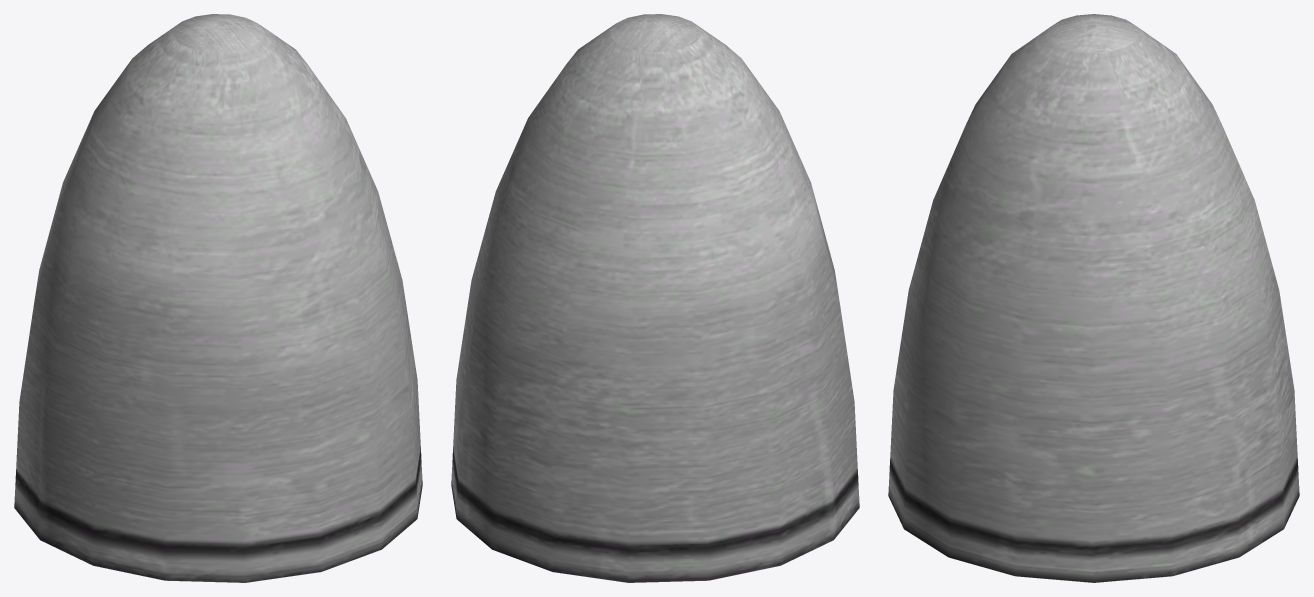
The model's file is Ammo_01.fbx.
The picture shows the model from 3 angles, left to right: view 1: azimuth 30°, elevation 25°; view 2: azimuth 150°, elevation 25°; view 3: azimuth 270°, elevation 25°; orthographic projection.
Visible parts, largest first — view 1: Sphere001; view 2: Sphere001; view 3: Sphere001.
Boxes of the visible parts, x1=… form: Sphere001: x1=14, y1=14, x2=422, y2=582; Sphere001: x1=451, y1=14, x2=859, y2=582; Sphere001: x1=888, y1=14, x2=1299, y2=582.
Size of the model in its own units: 0.02 by 0.0255 by 0.02.
